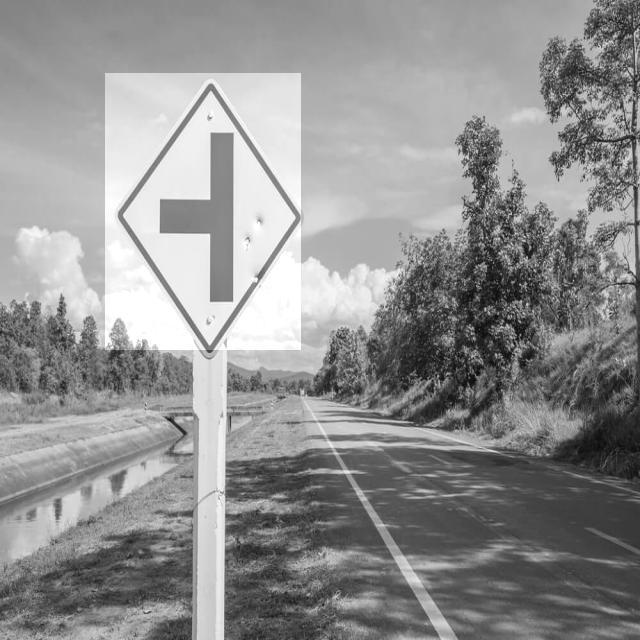side road left: (117, 81, 297, 345)
